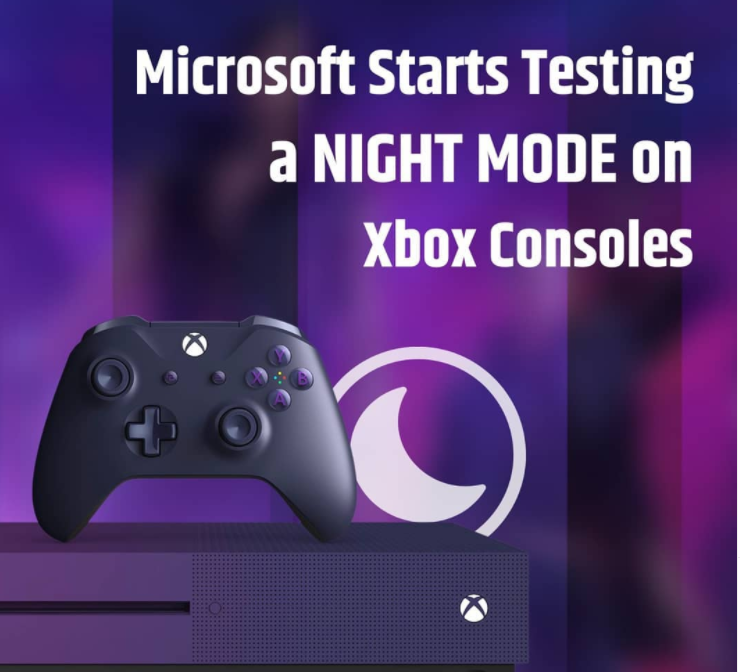gamingconsole: (35, 318, 357, 542)
